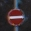No entry: (5, 6, 26, 26)
